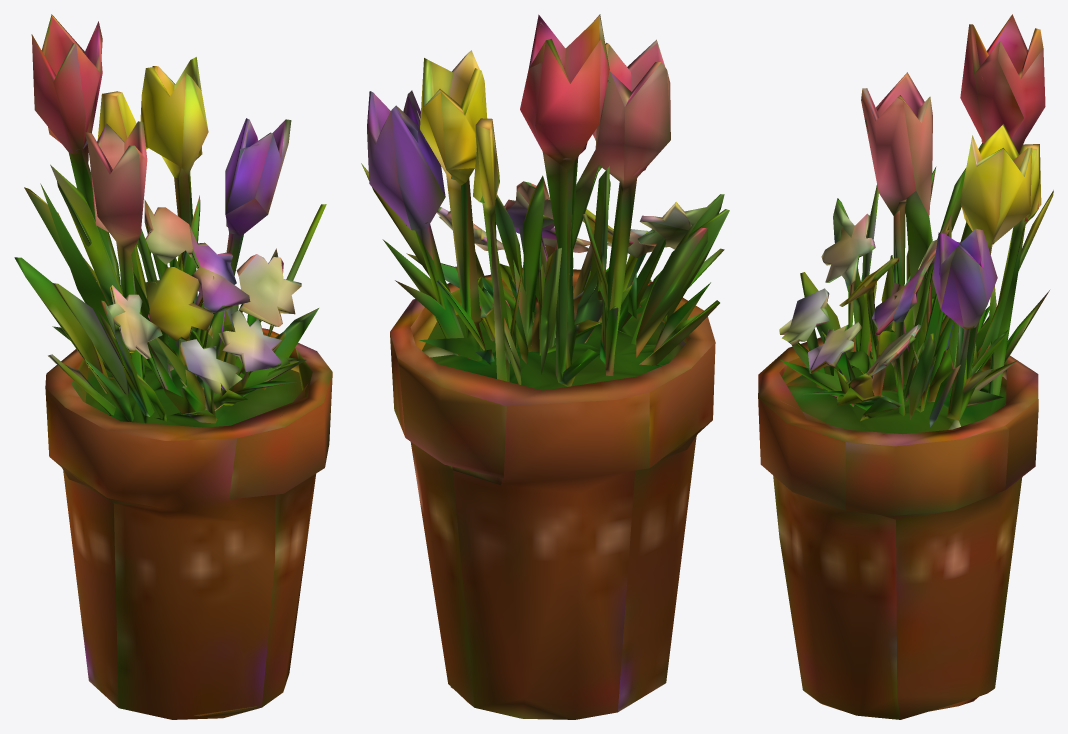
File: pot_medium.glb
3 views of the same model, side by side, from view 1: azimuth 30°, elevation 25°; view 2: azimuth 150°, elevation 25°; view 3: azimuth 270°, elevation 25° (orthographic). The views are drawn at different scales.
Size of the model in its own units: 0.5157 by 1 by 0.4334.
Materials: 1 (1 with a texture image).
